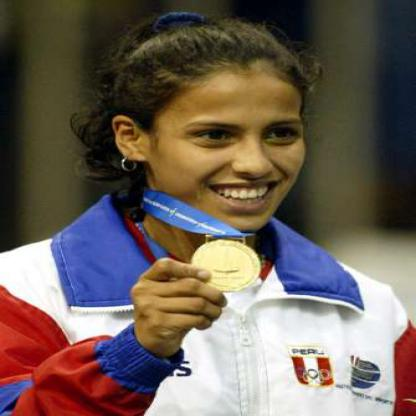face: (143, 38, 313, 237)
